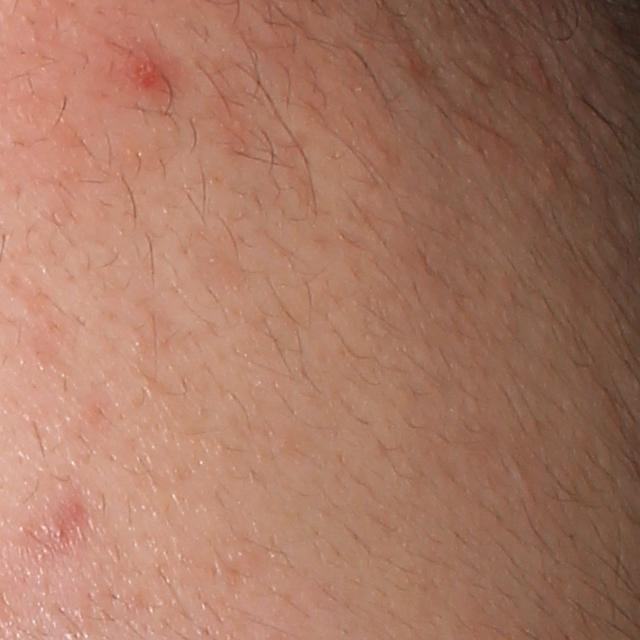papule: (123, 47, 166, 98)
